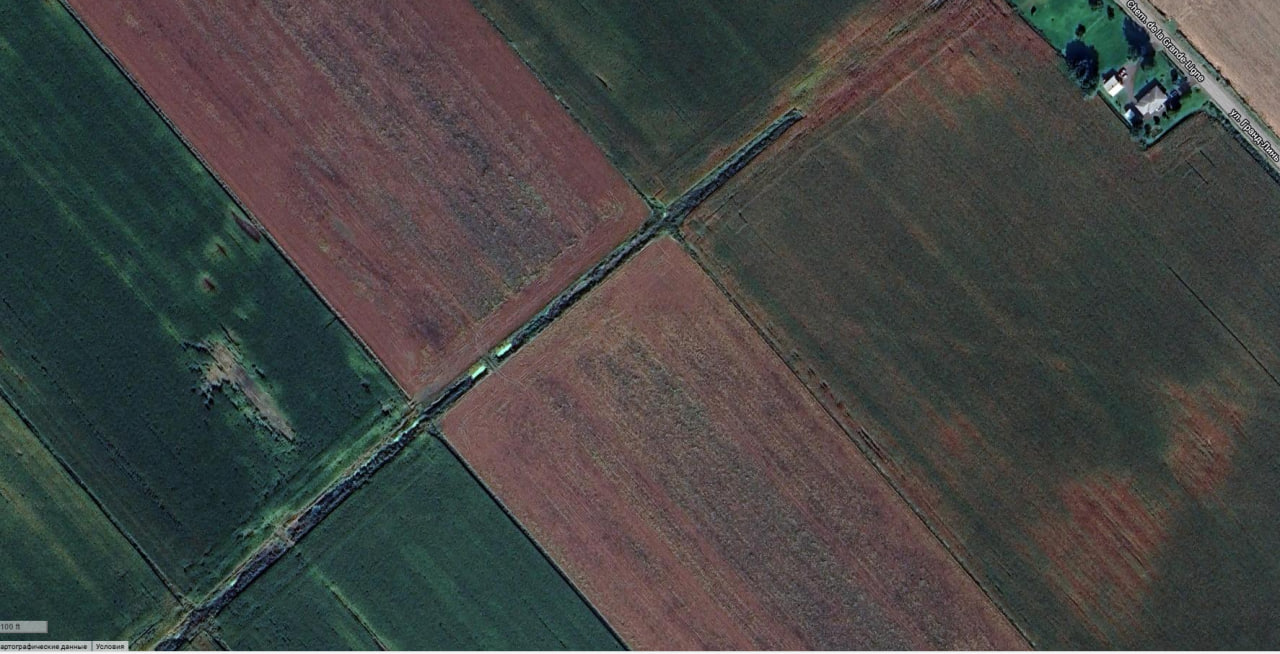Sown field: (685, 24, 1280, 647), (0, 0, 405, 594), (201, 432, 621, 649), (479, 0, 862, 199), (1019, 27, 1024, 32), (1000, 16, 1006, 20), (1029, 36, 1034, 39)
field: (442, 235, 1028, 648), (70, 0, 647, 399), (1151, 0, 1280, 136)
